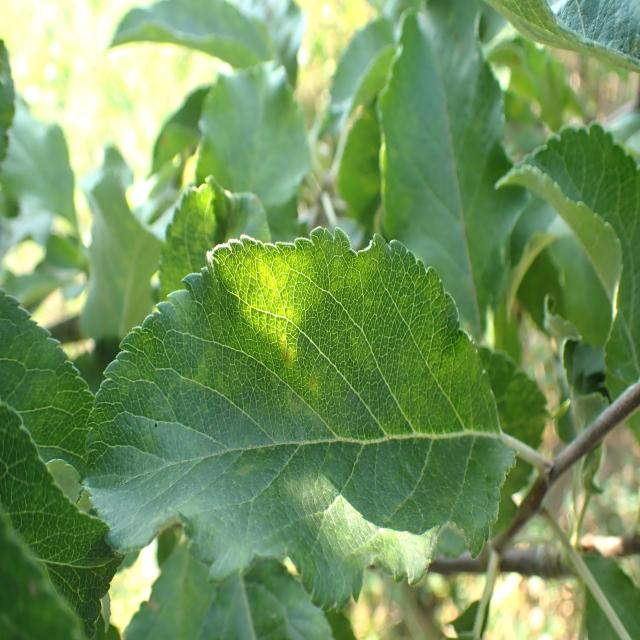scab: (103, 237, 514, 558)
